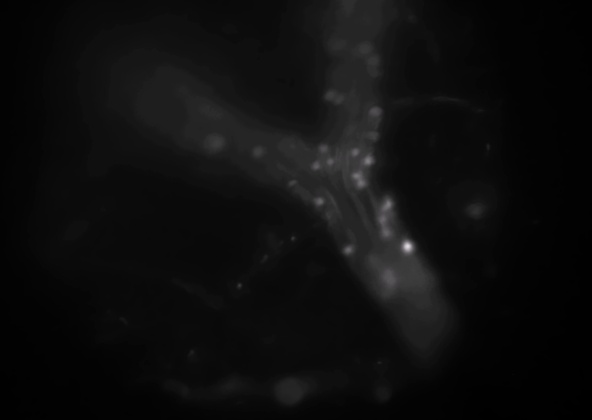cell: (401, 240, 415, 254), (369, 104, 383, 118), (348, 145, 362, 159), (362, 154, 376, 168), (317, 142, 331, 156), (309, 158, 323, 172), (323, 154, 337, 168), (324, 88, 338, 102), (350, 169, 364, 183), (333, 91, 347, 105), (355, 178, 369, 192), (341, 243, 355, 257), (382, 271, 396, 285), (381, 227, 395, 241), (379, 197, 393, 211), (375, 211, 389, 225), (377, 200, 391, 214), (313, 195, 327, 209), (286, 178, 300, 192), (253, 144, 267, 158), (208, 136, 222, 150), (358, 43, 372, 57), (367, 53, 381, 67), (333, 41, 347, 55), (366, 128, 380, 142)
